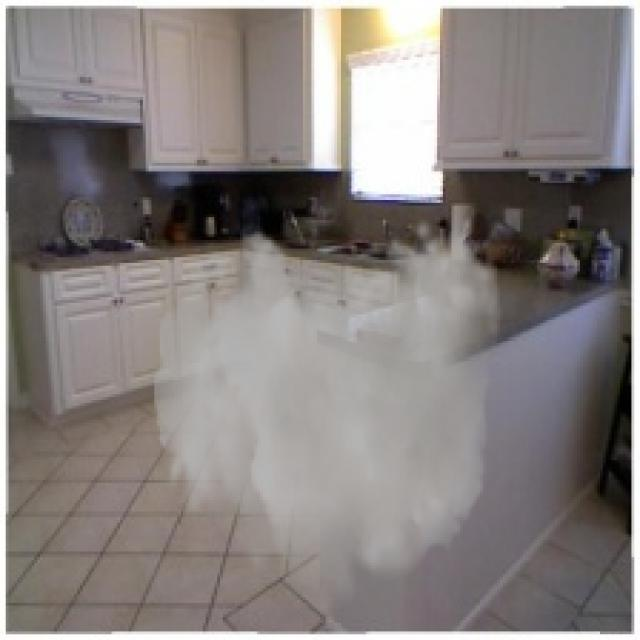smoke: (154, 217, 503, 632)
